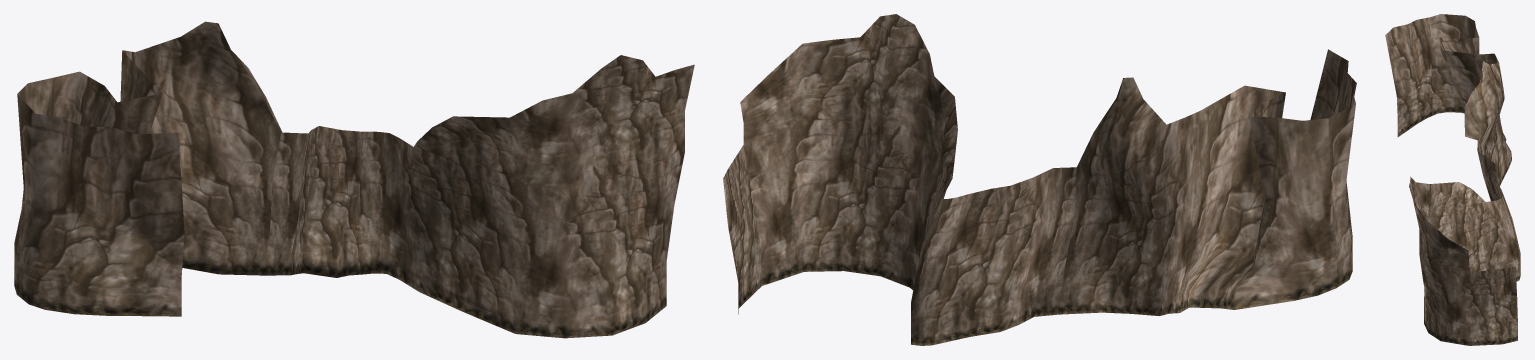
Rendered from OVERHILL_A_01_SHAPE01.fbx.
The picture shows the model from 3 angles, left to right: view 1: azimuth 30°, elevation 25°; view 2: azimuth 150°, elevation 25°; view 3: azimuth 270°, elevation 25°; orthographic projection. The views are drawn at different scales.
Parts seen in each view (by area): view 1: OVERHILL_A_01_SHAPE01; view 2: OVERHILL_A_01_SHAPE01; view 3: OVERHILL_A_01_SHAPE01.
Part boxes in pixels (left/top/right/bottom): OVERHILL_A_01_SHAPE01: left=14, top=21, right=694, bottom=338; OVERHILL_A_01_SHAPE01: left=723, top=14, right=1356, bottom=345; OVERHILL_A_01_SHAPE01: left=1385, top=14, right=1520, bottom=345.
Size of the model in its own units: 297568 by 149497 by 103145.
Materials: 2 (2 with a texture image).
